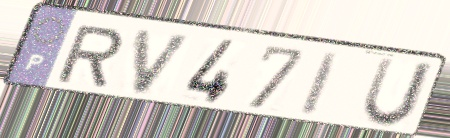4: (180, 37, 237, 106)
7: (250, 43, 309, 113)
I: (296, 50, 345, 119)
R: (53, 23, 127, 88)
U: (358, 54, 439, 130)
V: (131, 27, 198, 98)
